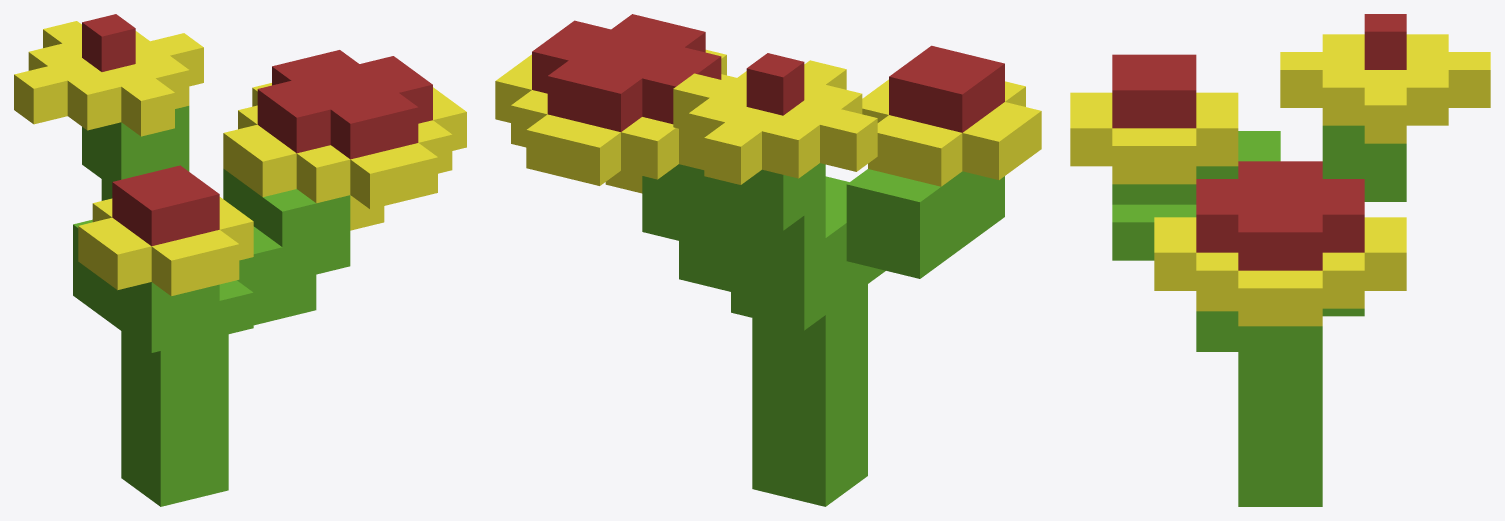
File: flower.obj
3 views of the same model, side by side, from view 1: azimuth 30°, elevation 25°; view 2: azimuth 150°, elevation 25°; view 3: azimuth 270°, elevation 25° (orthographic). The views are drawn at different scales.
Bounding box in the file's own units: 1.2 × 1.2 × 1.
1 material, 1 textured.
